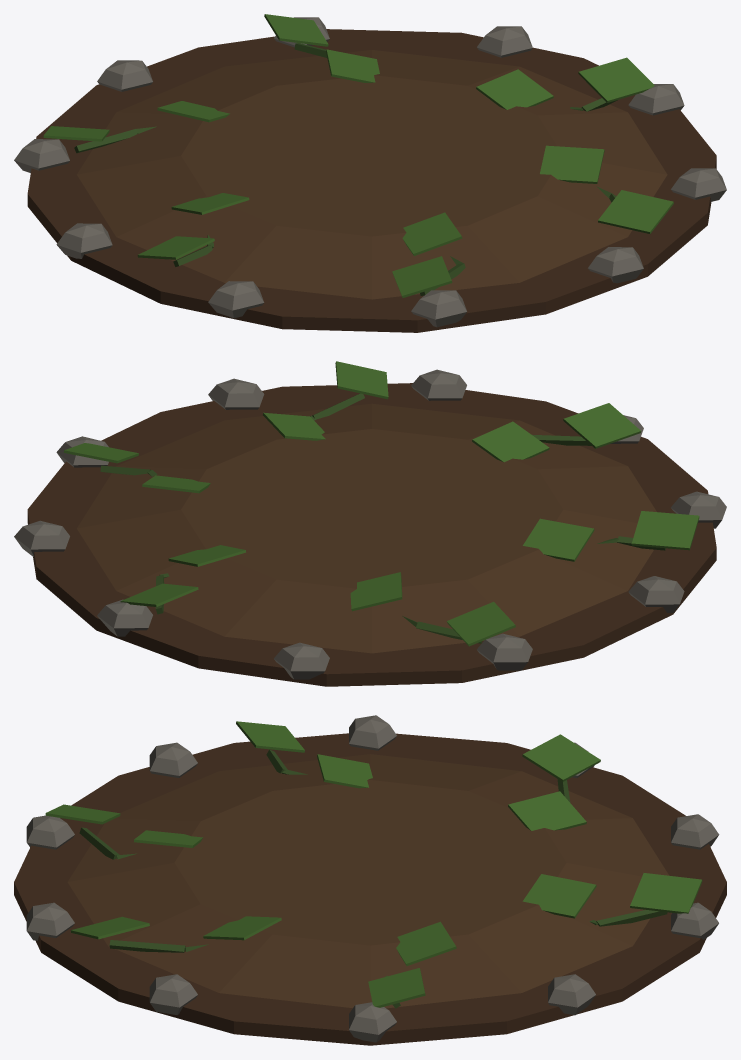
Rendered from pumpkin_patch.glb.
3 renders of one model, top to bottom at view 1: azimuth 30°, elevation 25°; view 2: azimuth 150°, elevation 25°; view 3: azimuth 270°, elevation 25°, orthographic. The views are drawn at different scales.
Parts seen in each view (by area): view 1: Patch; view 2: Patch; view 3: Patch.
Boxes of the visible parts, left/top/right/bottom form: Patch: left=14, top=14, right=726, bottom=332; Patch: left=14, top=361, right=726, bottom=686; Patch: left=14, top=715, right=726, bottom=1045.
Size of the model in its own units: 4.14 by 0.2644 by 4.
